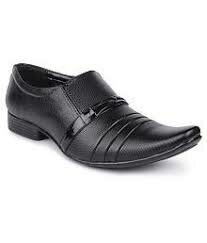Formal: (4, 60, 203, 172)
